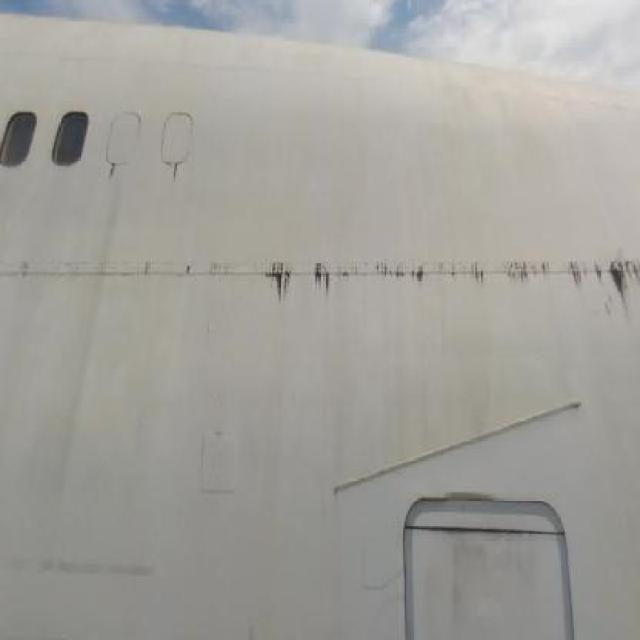Rust: (260, 241, 640, 341), (171, 158, 187, 191), (110, 159, 118, 187)
Scartch: (6, 539, 166, 612), (446, 539, 557, 630)
